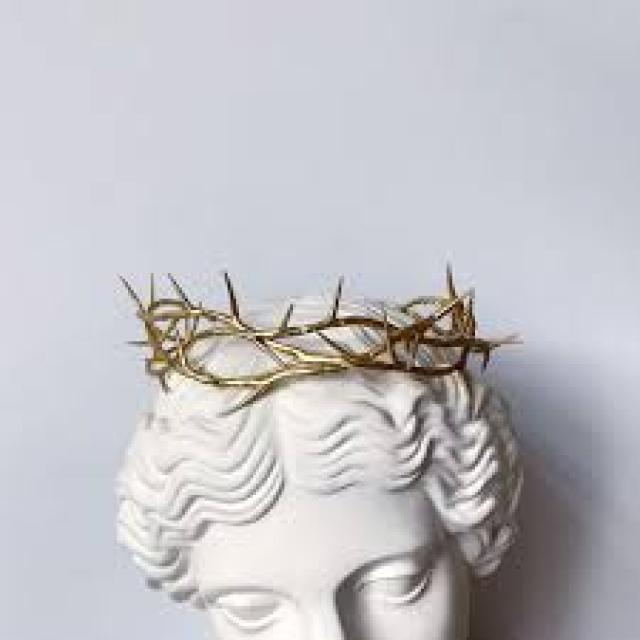crown: (112, 249, 533, 409)
